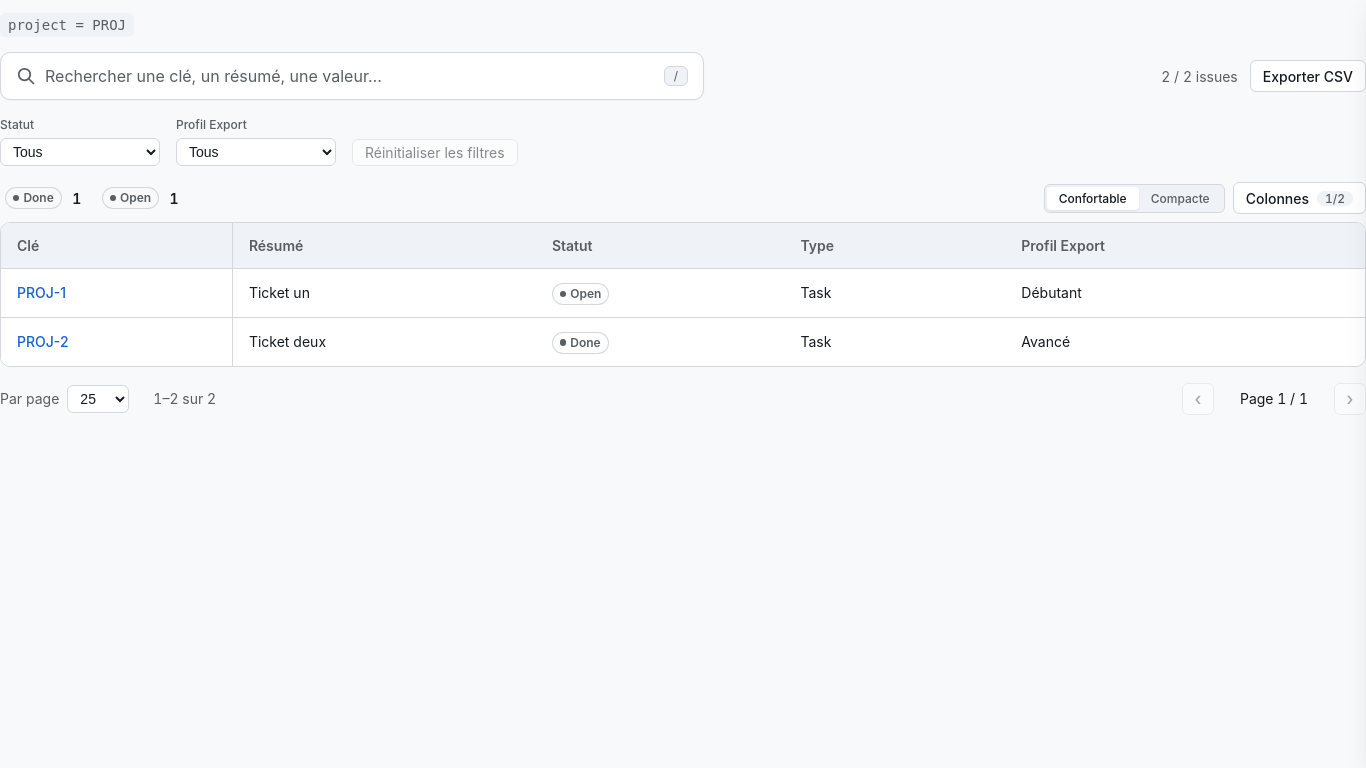
Test: IssueList › removing a column drops its header and its active filter
Select "Débutant" in the dropdown labelled "Profil Export": (256, 152) left=176, top=138, right=336, bottom=166
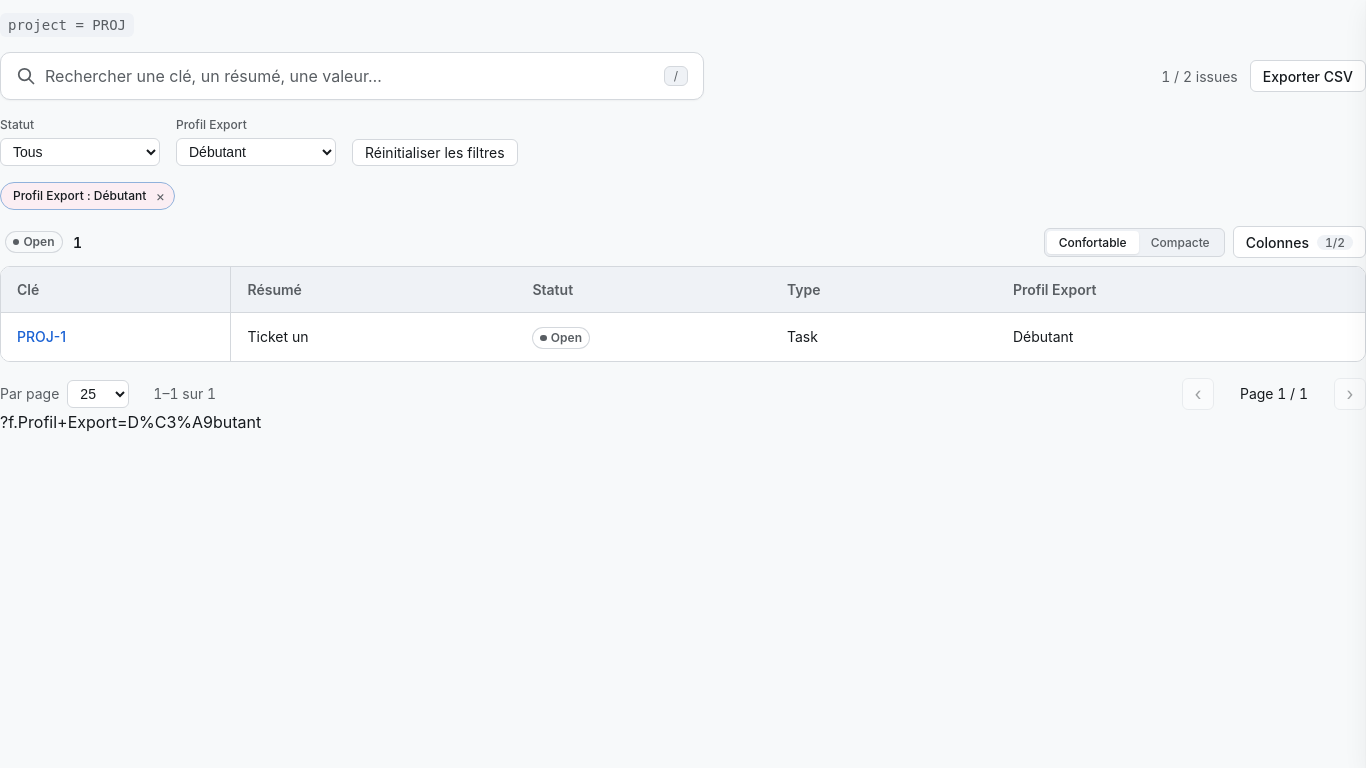
Now the button "PROJ-2" is gone
Click the button "Colonnes 1/2": (1299, 242) left=1233, top=226, right=1365, bottom=258
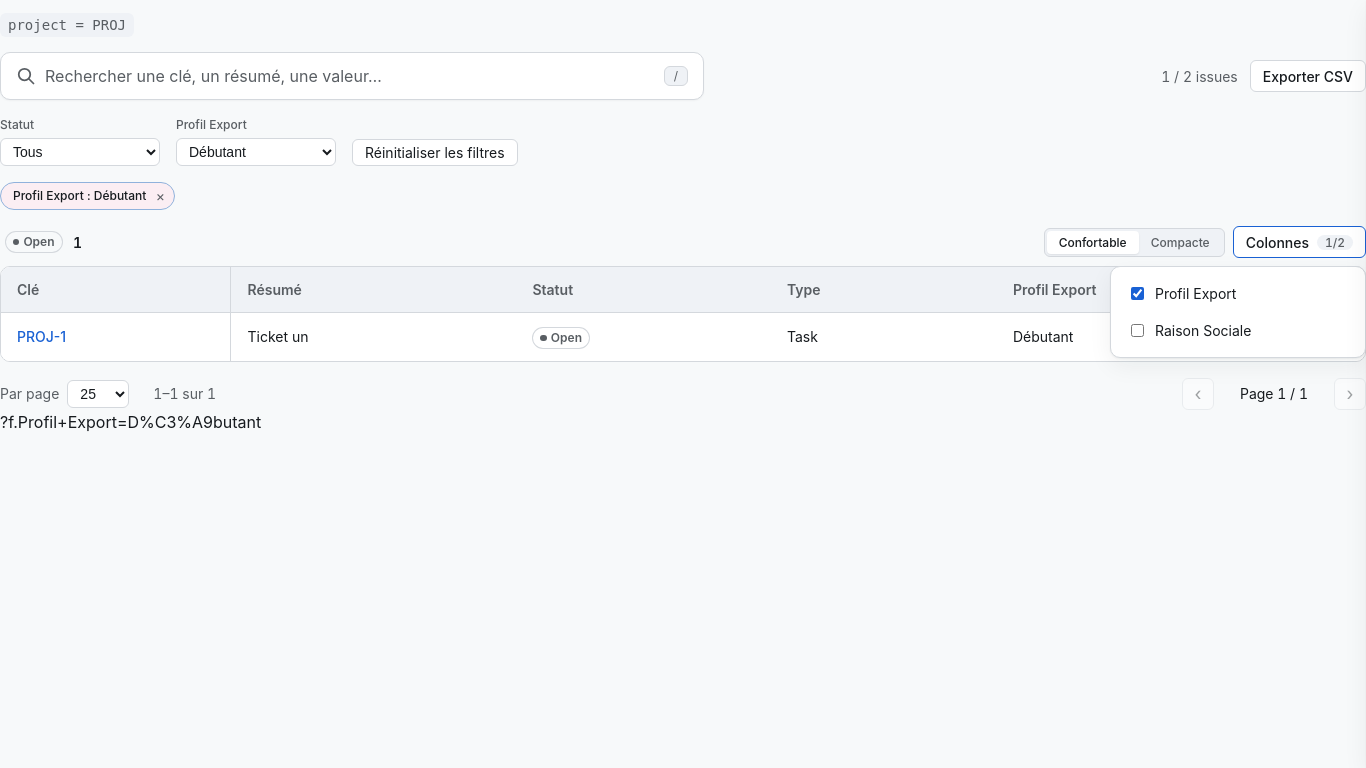
Click the checkbox labelled "Profil Export": (1138, 294) left=1131, top=287, right=1144, bottom=300
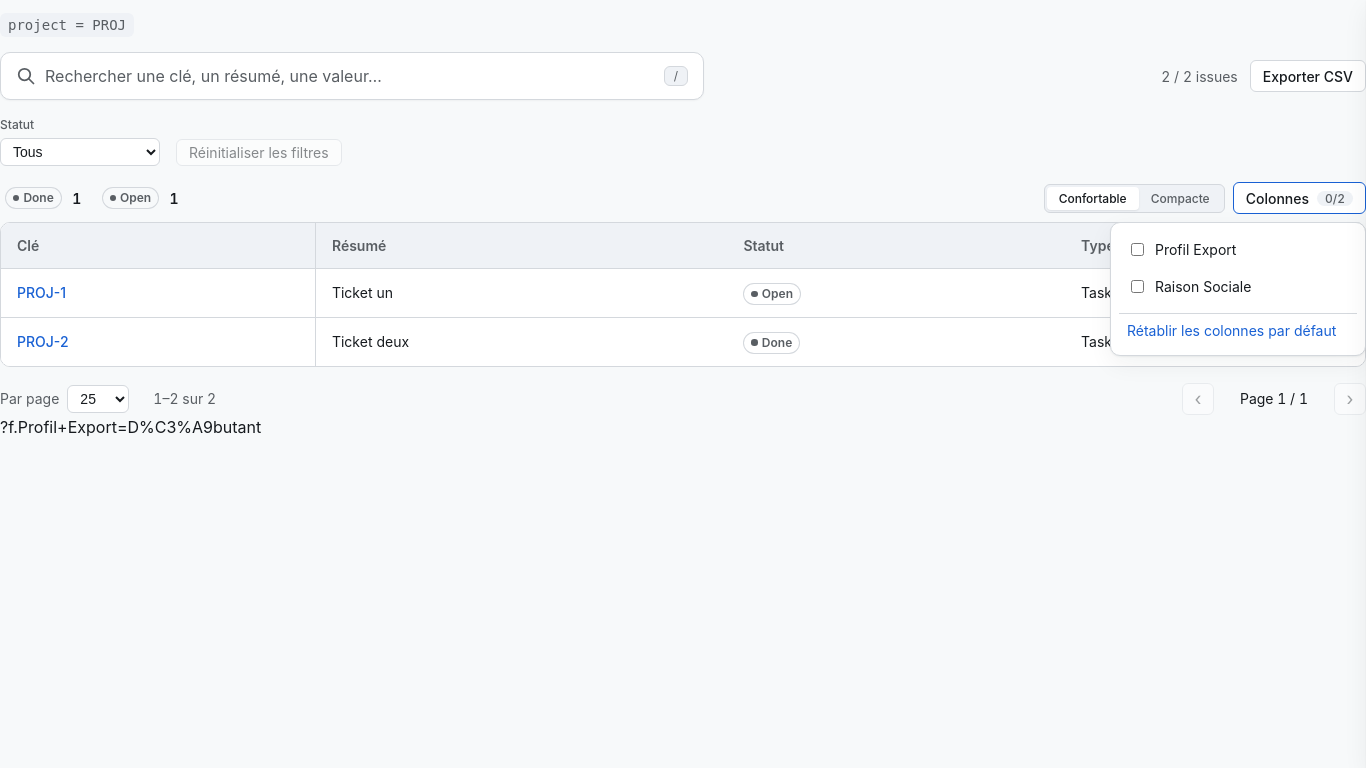
Now the button "PROJ-2" is shown, box left=17, top=331, right=68, bottom=352
